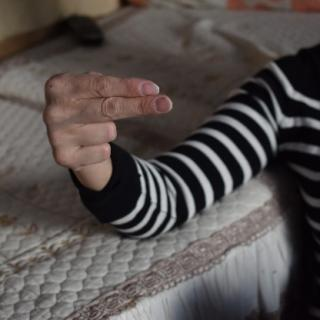AYN: (40, 65, 178, 173)
